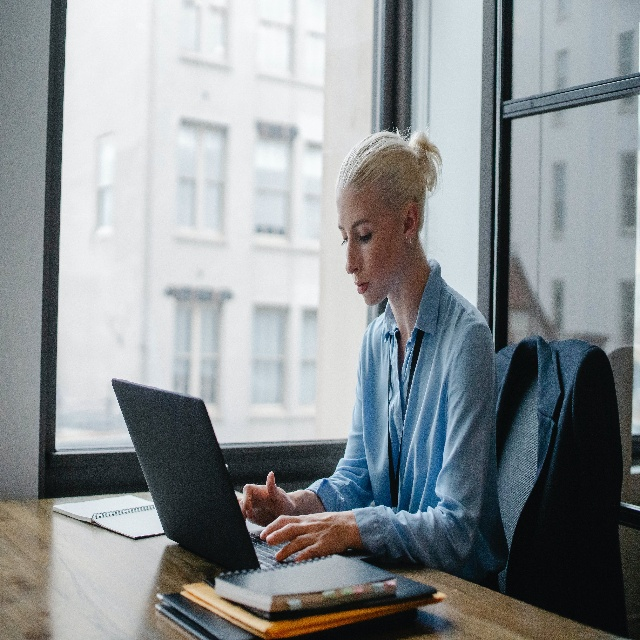Sin_guantes: (258, 508, 360, 562), (235, 467, 300, 527)
